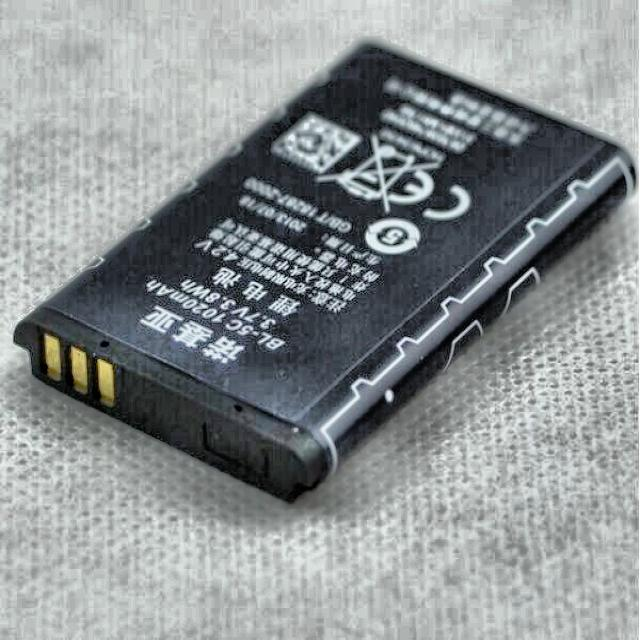Non-Valuable Waste - Batteries: (15, 42, 638, 501)
